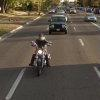Motorcycle: (25, 31, 58, 89)
